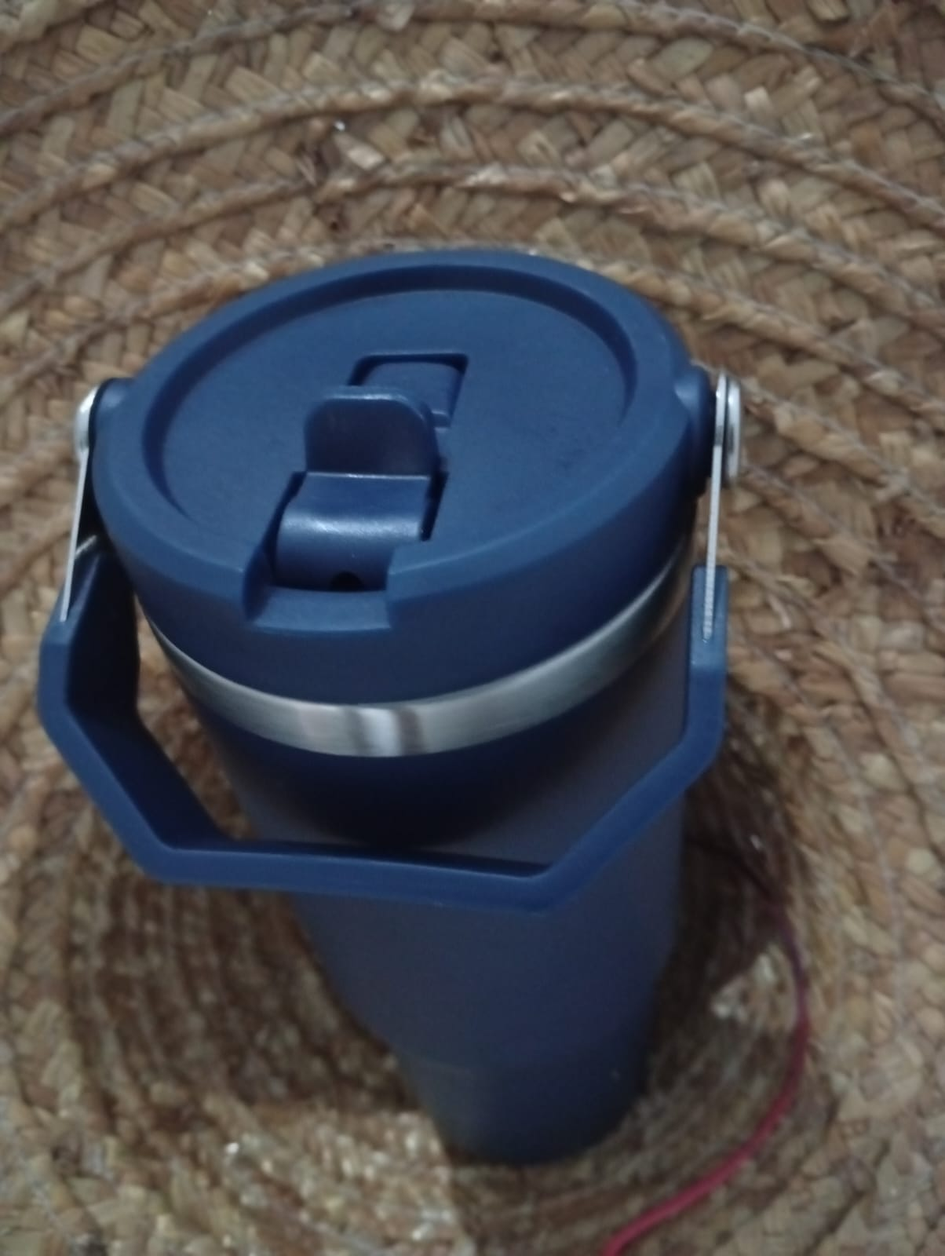Tupperware: (10, 231, 760, 1196)
